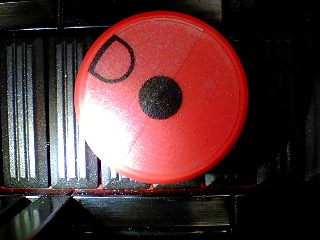BOHOMIPO1: (74, 10, 249, 185)
